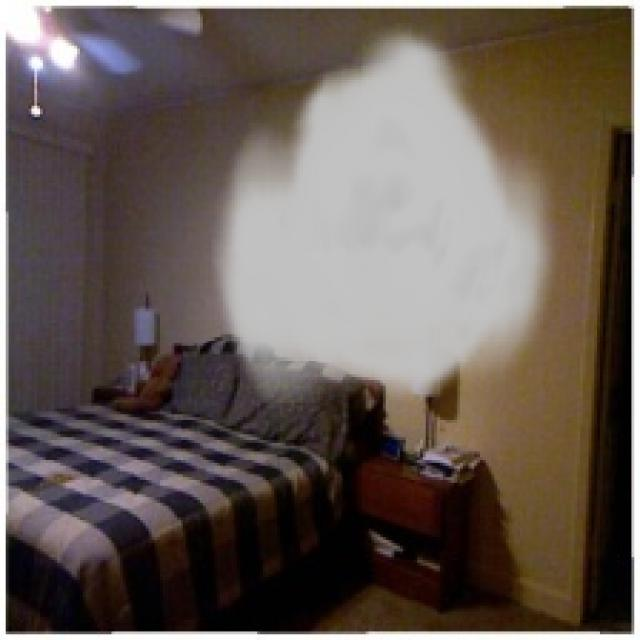smoke: (211, 23, 563, 403)
